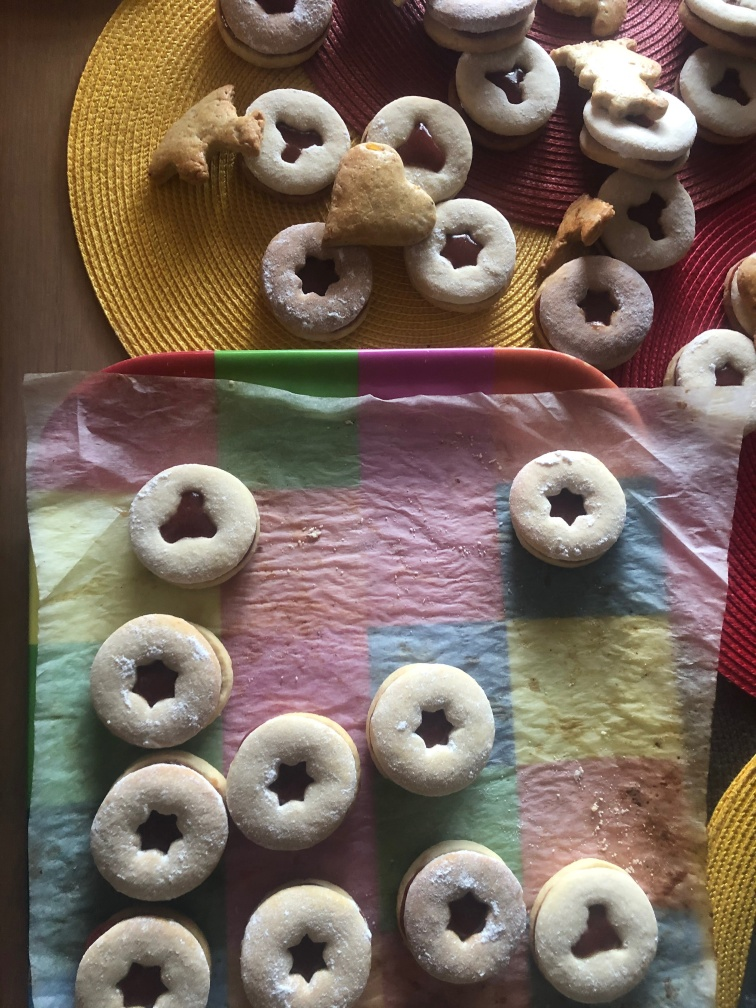christmas shortbread with jam: (84, 757, 229, 911), (93, 615, 234, 749), (396, 840, 527, 984), (532, 856, 662, 1000), (363, 664, 499, 798), (227, 713, 360, 850), (127, 461, 258, 585), (243, 882, 374, 1006), (507, 449, 626, 572), (71, 918, 212, 1008), (533, 256, 656, 353), (262, 222, 370, 327), (454, 40, 559, 135), (249, 86, 344, 190), (429, 199, 515, 311), (667, 332, 756, 426), (210, 1, 340, 65), (366, 97, 469, 173), (678, 47, 756, 139), (429, 3, 539, 40), (686, 1, 756, 43)
heart: (326, 140, 437, 250)
